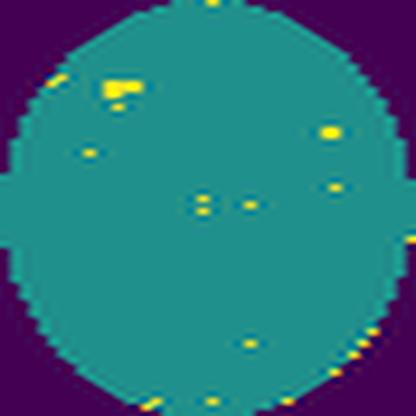Loc: (102, 77, 147, 99)
